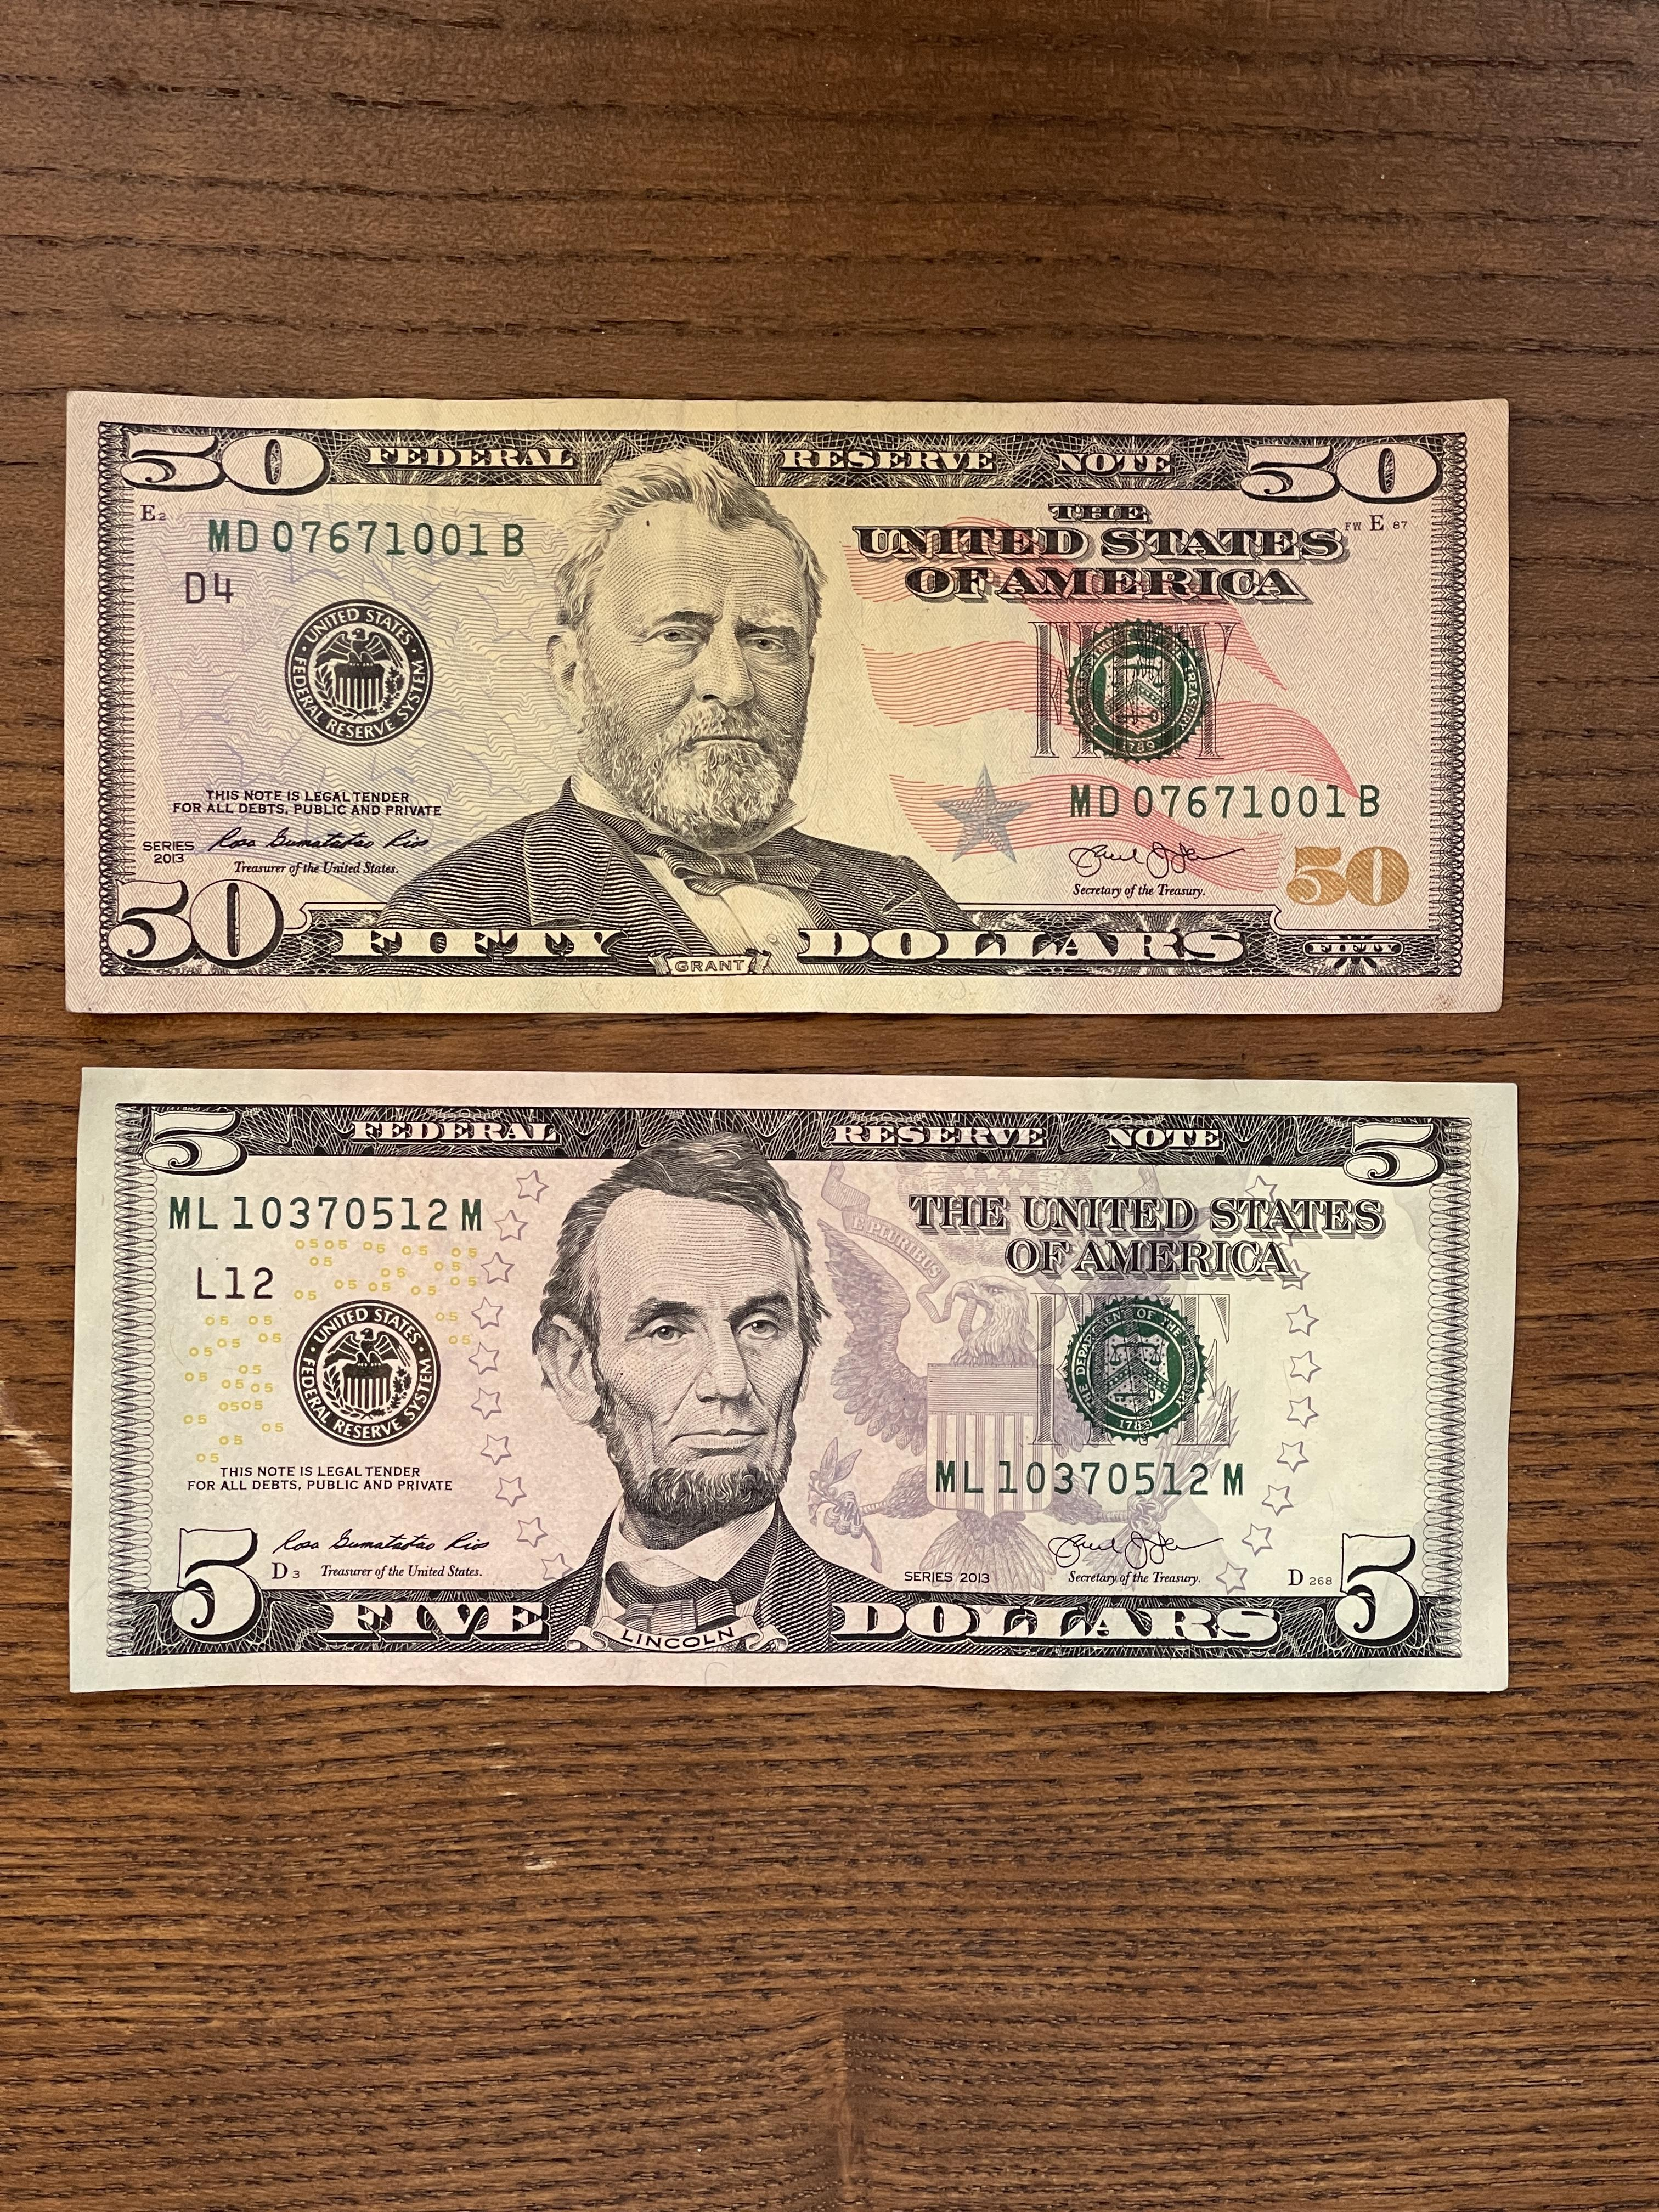FiftyBill: (58, 385, 1514, 1021)
FiveBill: (64, 1059, 1520, 1700)
